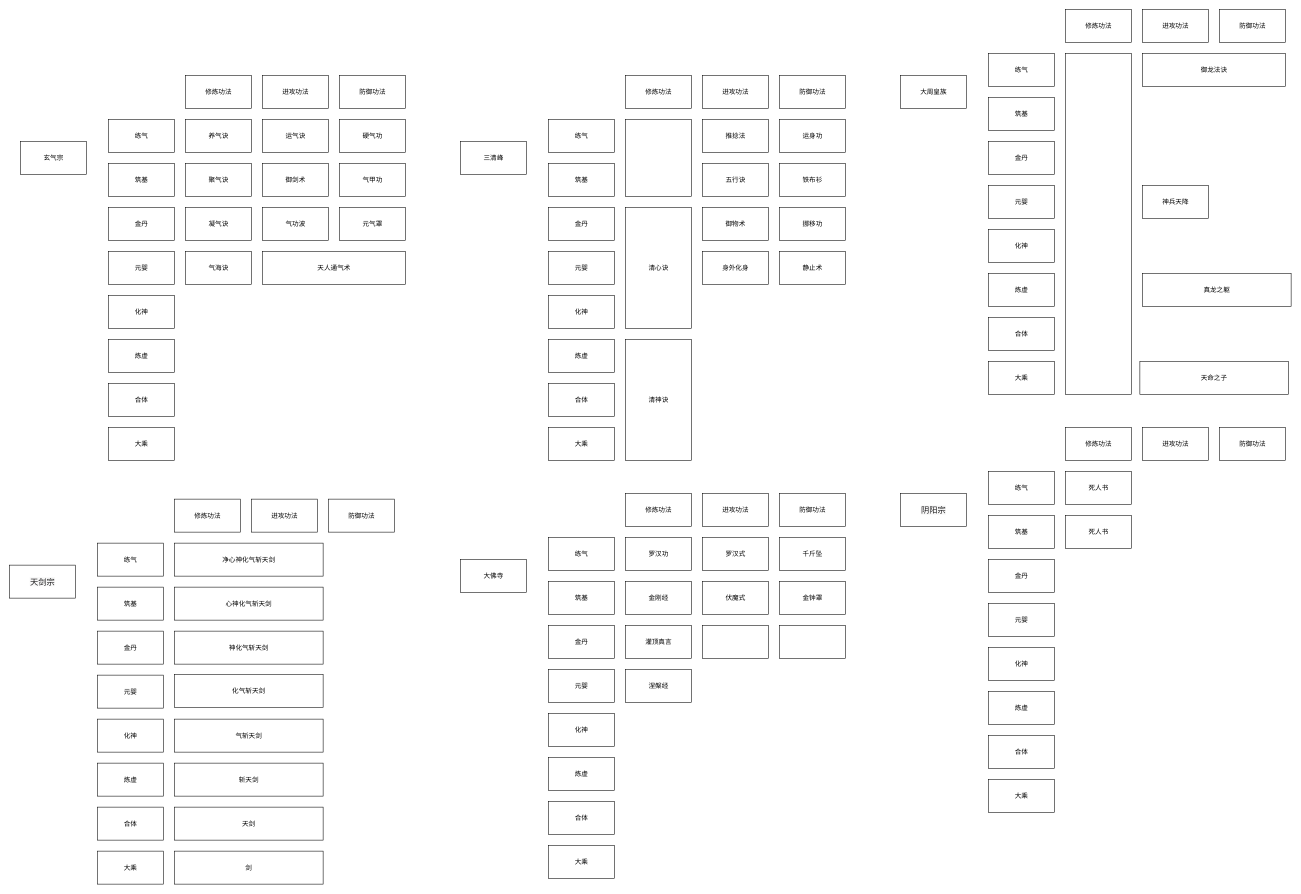
Image size: 1301x894. Some labels were removed from this diagram. Here are the shapes that lost their labels. From the top down, the box of each, then its label:
(625, 119, 692, 197): 清身诀
(1065, 53, 1132, 395): 帝王心术
